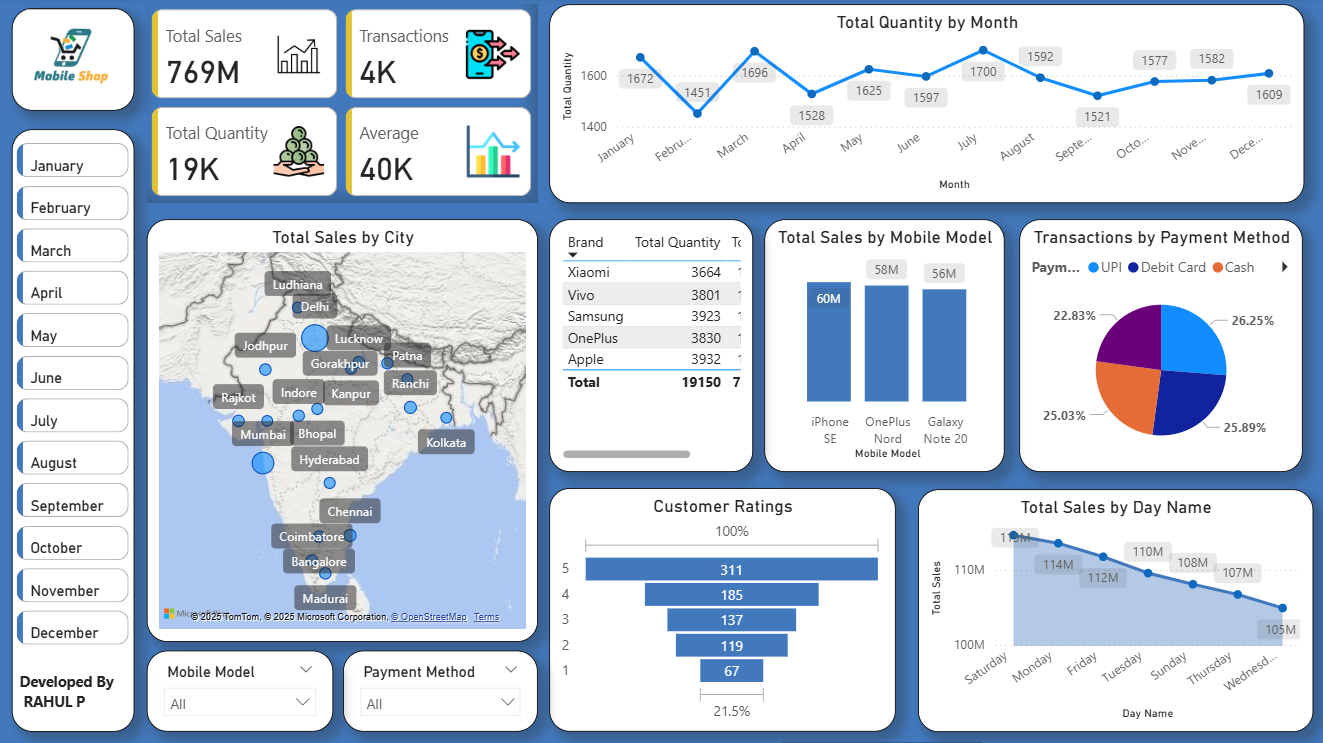

What the dashboard file says about the page in this screenshot:
{"tool":"powerbi","page":{"name":"Rahul P","canvas":[1280,720],"ordinal":0},"visuals":[{"type":"shape","box":[13.3,9.7,118.2,98.9],"z":0},{"type":"shape","box":[13.3,126.7,118.2,581.5],"z":1000},{"type":"advancedSlicerVisual","fields":{"Values":["Sales_Data.Date.Variation.Date Hierarchy.Month"]},"box":[13.3,135.1,118.2,494.6],"z":2000},{"type":"cardVisual","fields":{"Data":["Sales_Data.Total Sales","Sales_Data.Transactions","Sales_Data.Total Quantity","Sales_Data.Average"]},"box":[143.6,6,377.6,191.8],"z":3000},{"type":"map","fields":{"Category":["Sales_Data.City"],"Size":["Sales_Data.Total Sales"]},"box":[143.6,213.5,377.6,407.8],"z":4000},{"type":"lineChart","fields":{"Category":["Sales_Data.Date.Variation.Date Hierarchy.Month","Sales_Data.Date.Variation.Date Hierarchy.Day"],"Y":["Sales_Data.Total Quantity"]},"box":[532,6,728.7,191.8],"z":5000},{"type":"funnel","title":"Customer Ratings","fields":{"Category":["Sales_Data.Customer Ratings"],"Y":["Sales_Data.Customer Ratings"]},"box":[532,472.9,334.2,235.3],"z":6000},{"type":"pieChart","fields":{"Category":["Sales_Data.Payment Method"],"Y":["Sales_Data.Transactions"]},"box":[985.7,213.5,273.9,243.7],"z":7000},{"type":"clusteredColumnChart","fields":{"Category":["Sales_Data.Mobile Model"],"Y":["Sales_Data.Total Sales"]},"box":[739.5,213.5,231.6,243.7],"z":8000},{"type":"areaChart","fields":{"Category":["Sales_Data.Day Name"],"Y":["Sales_Data.Total Sales"]},"box":[887.9,474.1,381.2,234],"z":9000},{"type":"tableEx","fields":{"Values":["Sales_Data.Brand","Sales_Data.Total Quantity","Sales_Data.Total Sales"]},"box":[532,213.5,196.6,243.7],"z":10000},{"type":"slicer","fields":{"Values":["Sales_Data.Payment Method"]},"box":[333,629.8,188.2,78.4],"z":11000},{"type":"slicer","fields":{"Values":["Sales_Data.Mobile Model"]},"box":[143.6,629.8,179.8,78.4],"z":12000},{"type":"image","box":[15.7,6,112.2,98.9],"z":13000},{"type":"textbox","box":[15.7,645.4,112.2,48.3],"z":14000}]}

Visuals, with their boxes in screenshot pixels (x1, y1, x2, y2), scaled from the page's 1280x720 canvas onto the 1323x743 screenshot:
shape: pyautogui.locateOnScreen(14, 10, 136, 112)
shape: pyautogui.locateOnScreen(14, 131, 136, 731)
advancedSlicerVisual - Sales_Data.Date.Variation.Date Hierarchy.Month: pyautogui.locateOnScreen(14, 139, 136, 650)
cardVisual - Sales_Data.Total Sales x Sales_Data.Transactions: pyautogui.locateOnScreen(148, 6, 539, 204)
map - Sales_Data.City x Sales_Data.Total Sales: pyautogui.locateOnScreen(148, 220, 539, 641)
lineChart - Sales_Data.Date.Variation.Date Hierarchy.Month x Sales_Data.Date.Variation.Date Hierarchy.Day: pyautogui.locateOnScreen(550, 6, 1303, 204)
"Customer Ratings" funnel: pyautogui.locateOnScreen(550, 488, 895, 731)
pieChart - Sales_Data.Payment Method x Sales_Data.Transactions: pyautogui.locateOnScreen(1019, 220, 1302, 472)
clusteredColumnChart - Sales_Data.Mobile Model x Sales_Data.Total Sales: pyautogui.locateOnScreen(764, 220, 1004, 472)
areaChart - Sales_Data.Day Name x Sales_Data.Total Sales: pyautogui.locateOnScreen(918, 489, 1312, 731)
tableEx - Sales_Data.Brand x Sales_Data.Total Quantity: pyautogui.locateOnScreen(550, 220, 753, 472)
slicer - Sales_Data.Payment Method: pyautogui.locateOnScreen(344, 650, 539, 731)
slicer - Sales_Data.Mobile Model: pyautogui.locateOnScreen(148, 650, 334, 731)
image: pyautogui.locateOnScreen(16, 6, 132, 108)
textbox: pyautogui.locateOnScreen(16, 666, 132, 716)
